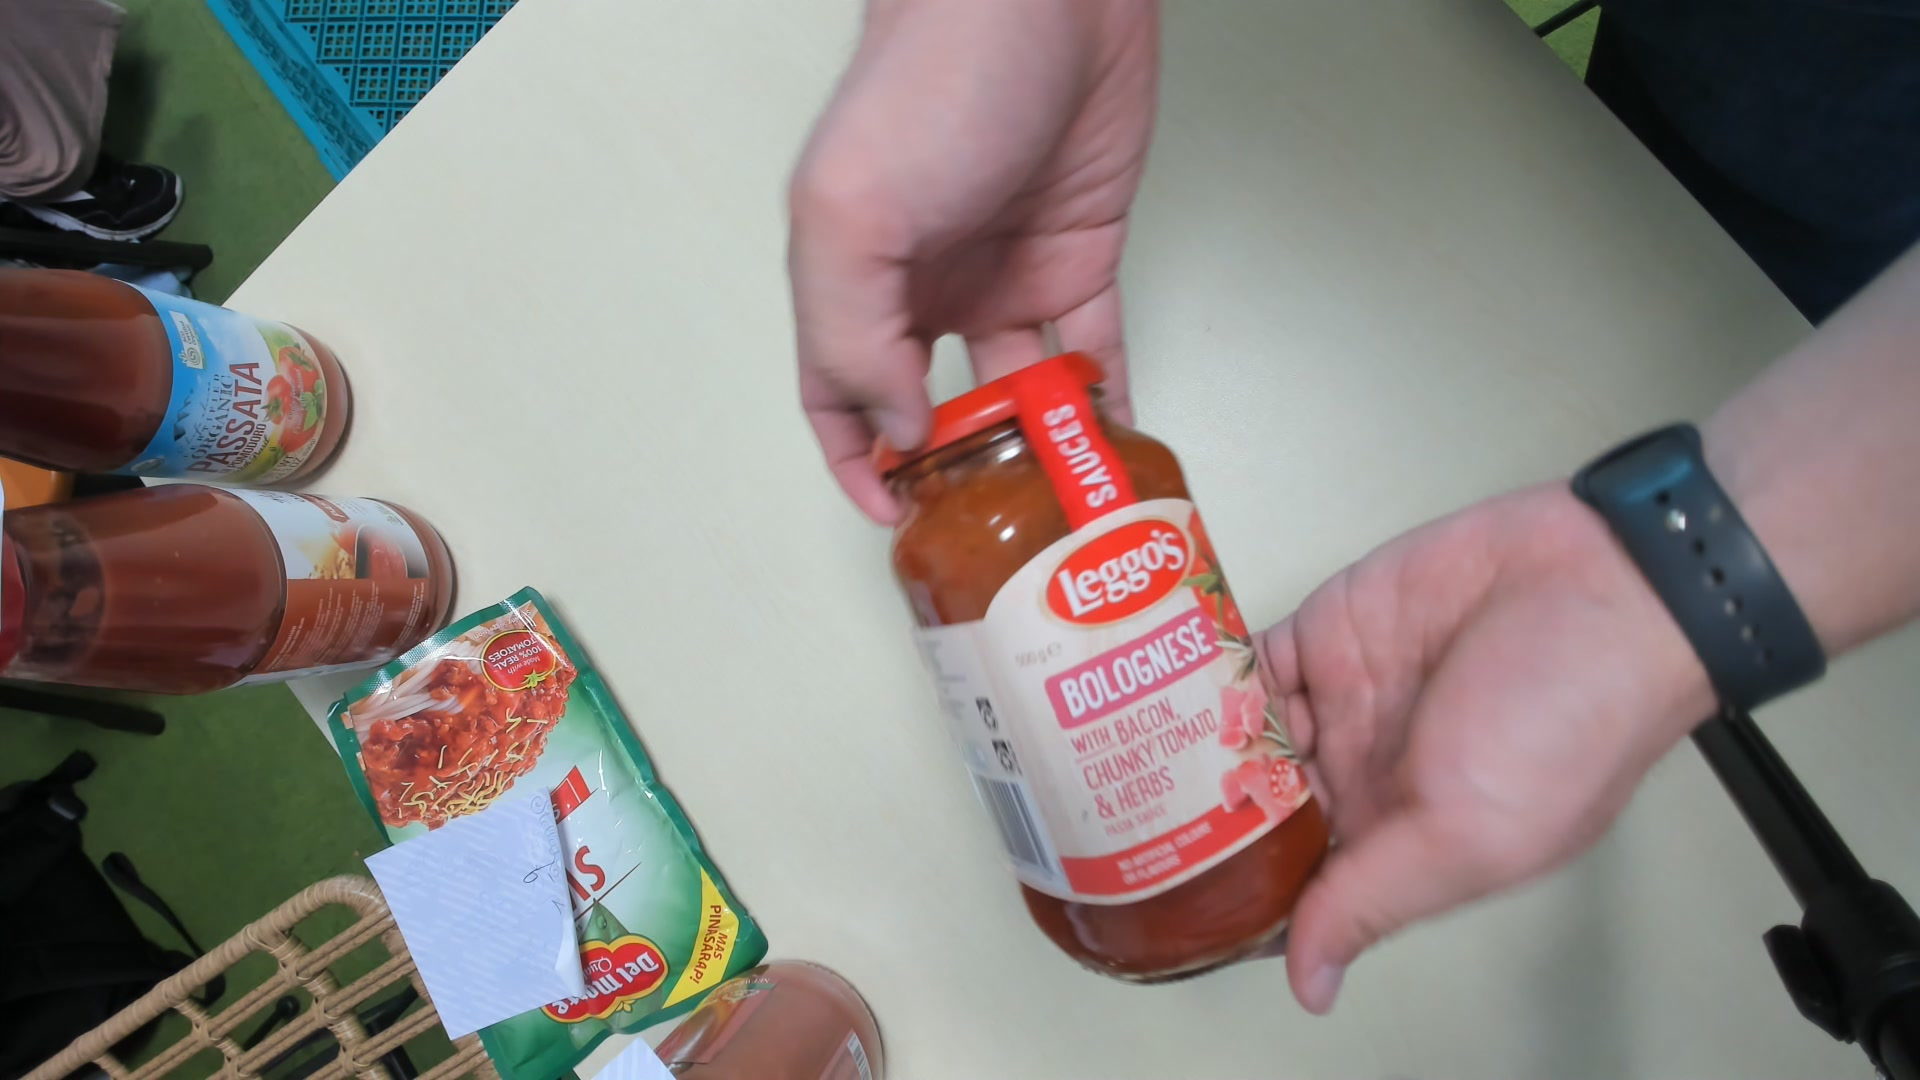PastaSauce_500-599g_Halal_NonHealthy: (881, 363, 1333, 985)
